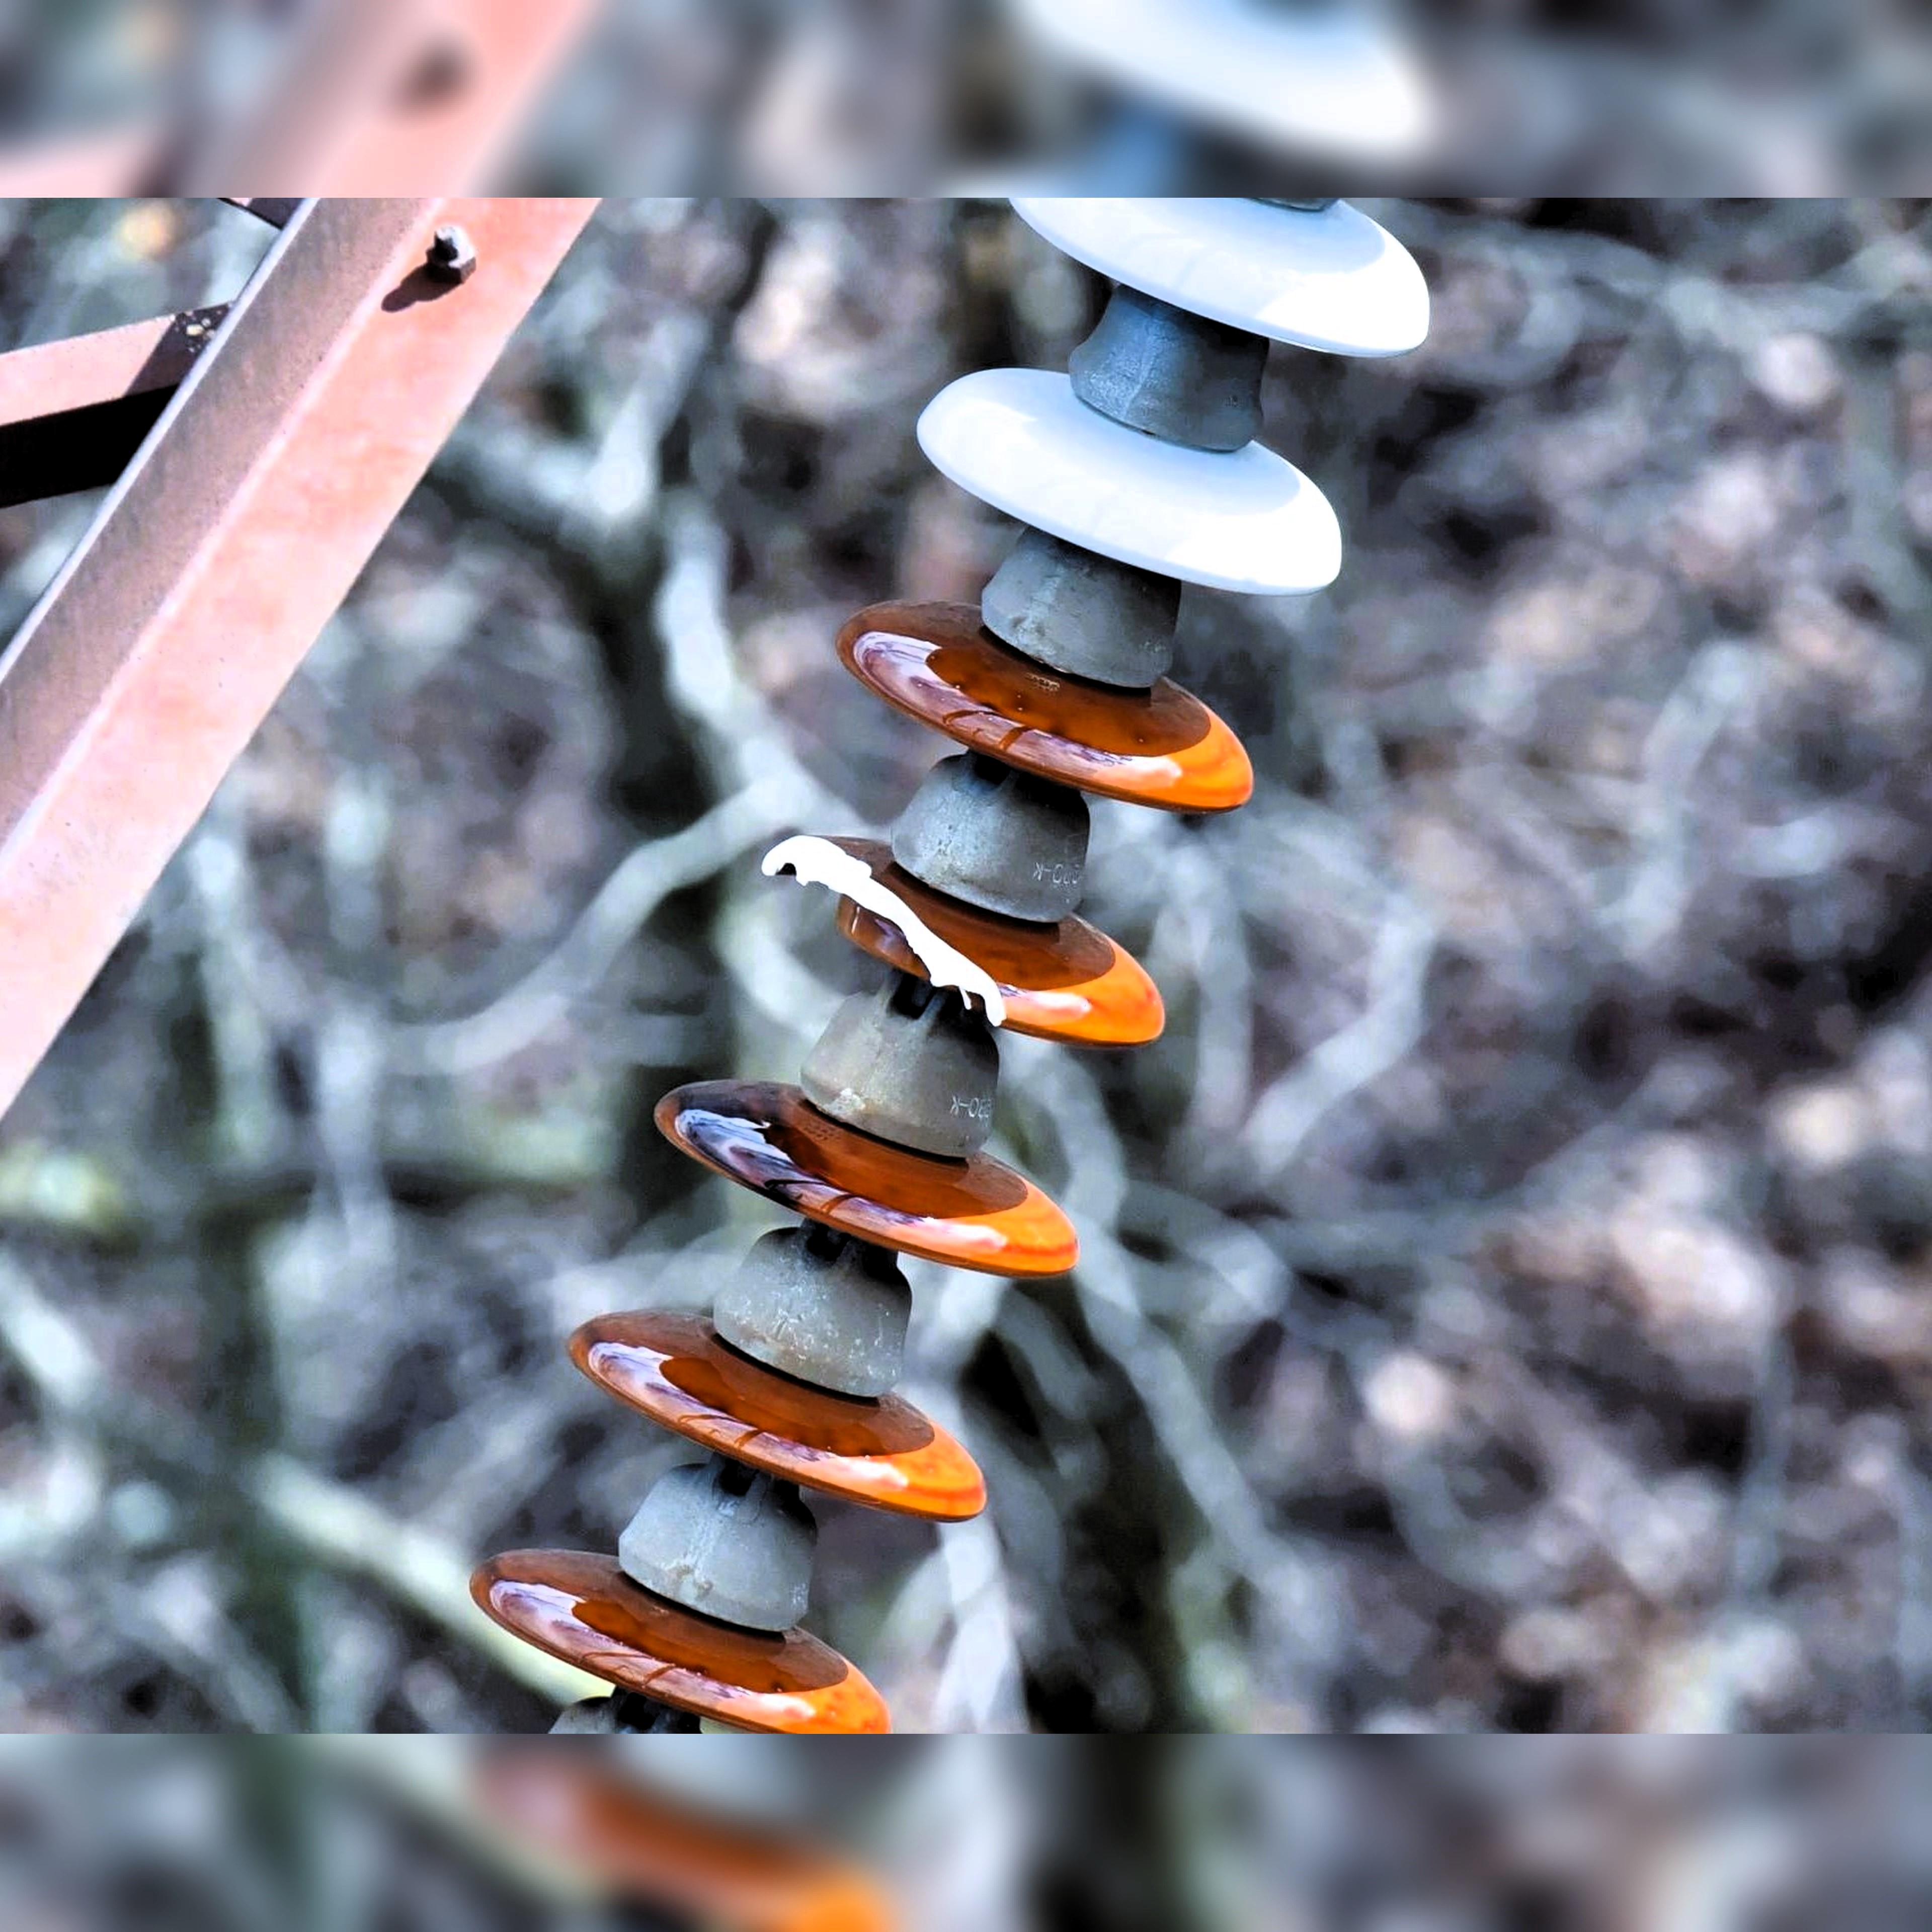insulator breakage: (734, 821, 1178, 1085)
